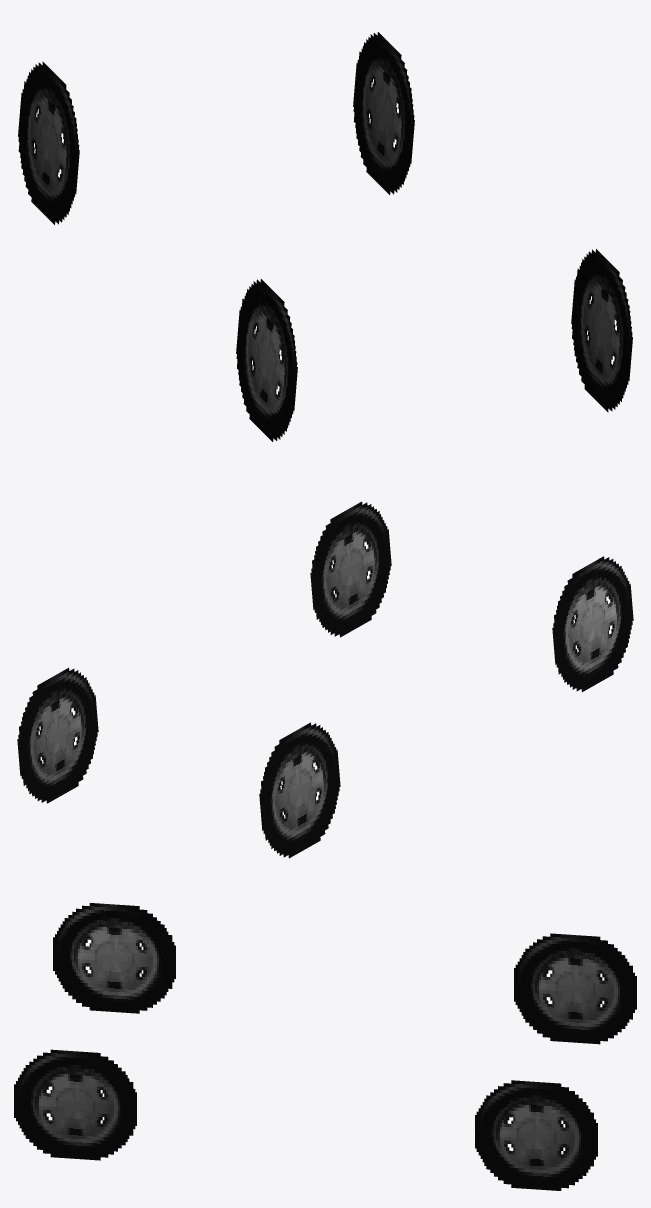
The model's file is car_secondary.glb.
The picture shows the model from 3 angles, top to bottom: view 1: azimuth 30°, elevation 25°; view 2: azimuth 150°, elevation 25°; view 3: azimuth 270°, elevation 25°; orthographic projection. The views are drawn at different scales.
Visible parts, largest first — view 1: Object; view 2: Object; view 3: Object.
Boxes of the visible parts, left/top/right/bottom form: Object: left=18, top=32, right=632, bottom=441; Object: left=17, top=501, right=633, bottom=858; Object: left=14, top=903, right=636, bottom=1190.
Size of the model in its own units: 2.29 by 0.9381 by 3.74.
Materials: 3 (3 with a texture image).
